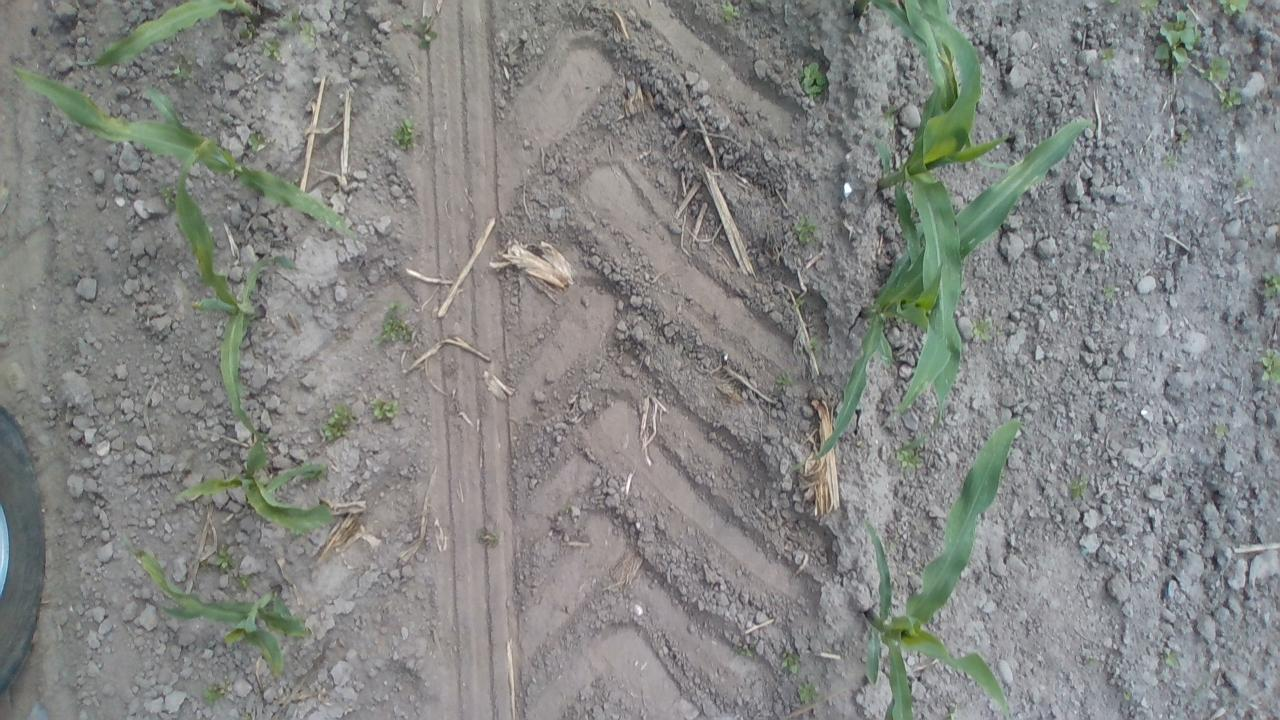Maize: (798, 122, 1098, 464), (1, 55, 368, 247), (864, 0, 1011, 438), (852, 413, 1025, 715), (166, 143, 297, 449), (115, 536, 311, 682), (172, 438, 344, 529), (70, 1, 269, 74)
Weeds: (1152, 12, 1204, 78), (374, 298, 422, 350), (278, 6, 324, 50), (318, 402, 362, 442), (790, 213, 824, 251), (400, 14, 440, 46), (366, 395, 408, 424), (892, 441, 926, 474), (799, 62, 827, 102), (1200, 52, 1232, 86), (168, 47, 196, 85), (200, 678, 233, 708), (390, 118, 420, 150), (1088, 227, 1118, 258), (966, 315, 998, 344), (244, 127, 276, 156), (205, 546, 238, 573), (1064, 472, 1091, 502), (794, 678, 822, 706), (1256, 349, 1276, 387), (157, 185, 184, 212), (1159, 642, 1183, 672), (770, 368, 794, 398), (875, 104, 902, 130), (779, 648, 800, 681), (1216, 86, 1244, 110), (1098, 281, 1123, 307), (478, 523, 502, 550), (1258, 267, 1276, 302), (1235, 170, 1260, 194), (735, 636, 759, 660), (714, 3, 741, 24), (262, 38, 285, 62), (1093, 46, 1117, 68), (805, 332, 827, 356), (1215, 0, 1249, 15), (1162, 152, 1184, 172), (236, 570, 254, 592), (1212, 422, 1232, 441), (1175, 126, 1192, 148), (237, 704, 260, 720), (1137, 0, 1161, 14), (1107, 0, 1125, 9)
